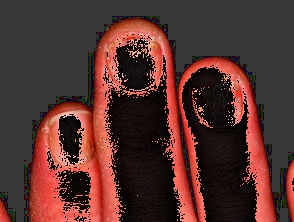Nail_psoriasis: (93, 20, 173, 109), (29, 101, 107, 190), (184, 70, 254, 138)
